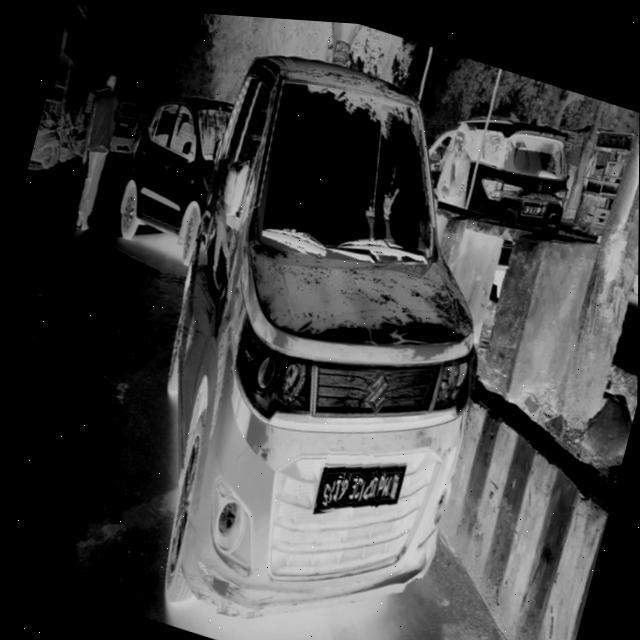0: (368, 465, 381, 497)
1: (331, 472, 344, 499)
3: (326, 472, 338, 500)
5: (318, 472, 334, 503)
7: (361, 468, 375, 498)
9: (338, 468, 352, 502)
C: (352, 466, 368, 500)
E: (345, 470, 359, 502)
IND: (387, 465, 401, 496)
Indian_registered: (315, 460, 406, 506)
M: (379, 463, 395, 499)
P: (374, 465, 387, 504)
